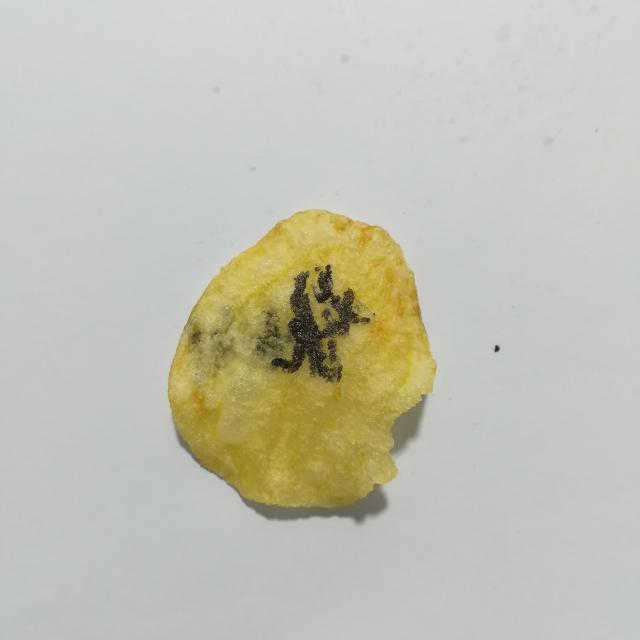chip: (168, 210, 436, 507)
damaged: (271, 264, 370, 382), (327, 340, 338, 365), (494, 345, 500, 352), (315, 267, 320, 270)
semi-damaged: (191, 305, 233, 383), (253, 308, 294, 373)
